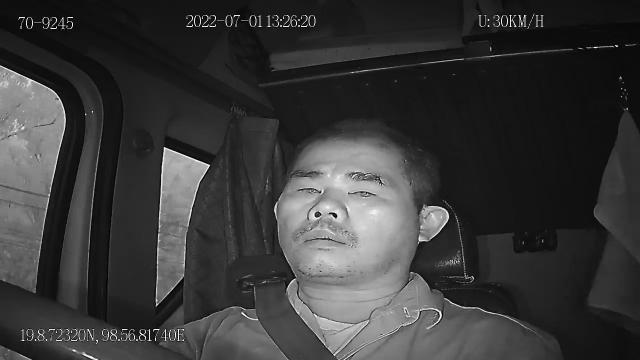SafeDriving: (340, 178, 387, 204), (286, 176, 326, 204)
Seatbelt: (255, 284, 338, 360)
